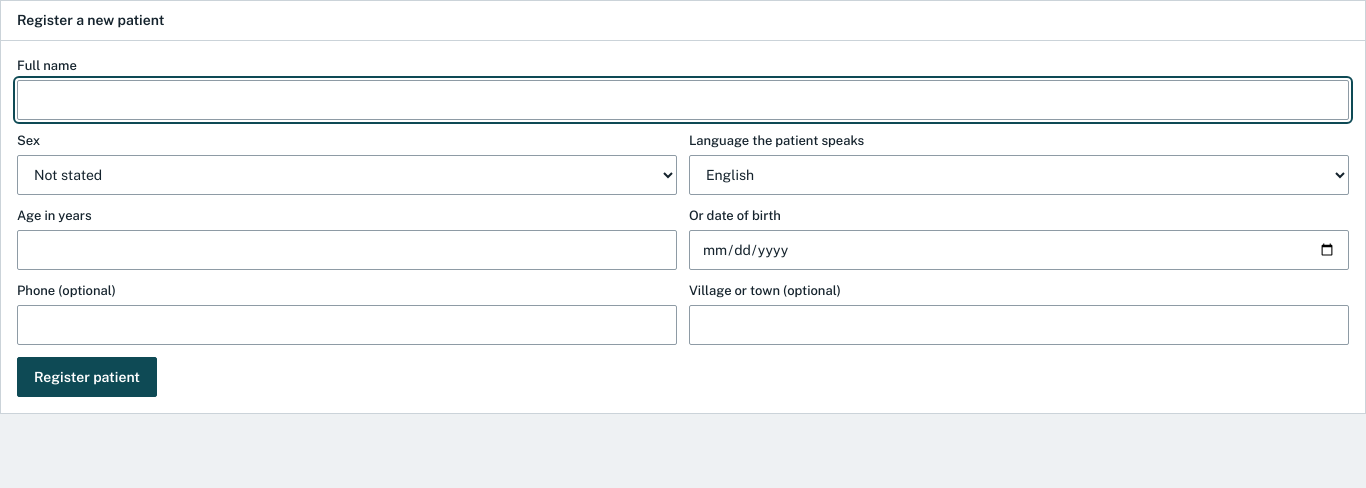
Test: RegisterPatientForm › other server errors are shown in words
Type "Meera Das" into the field labelled "Full name".
click(683, 100); type("Meera Das")  # box 17,80 -> 1349,120
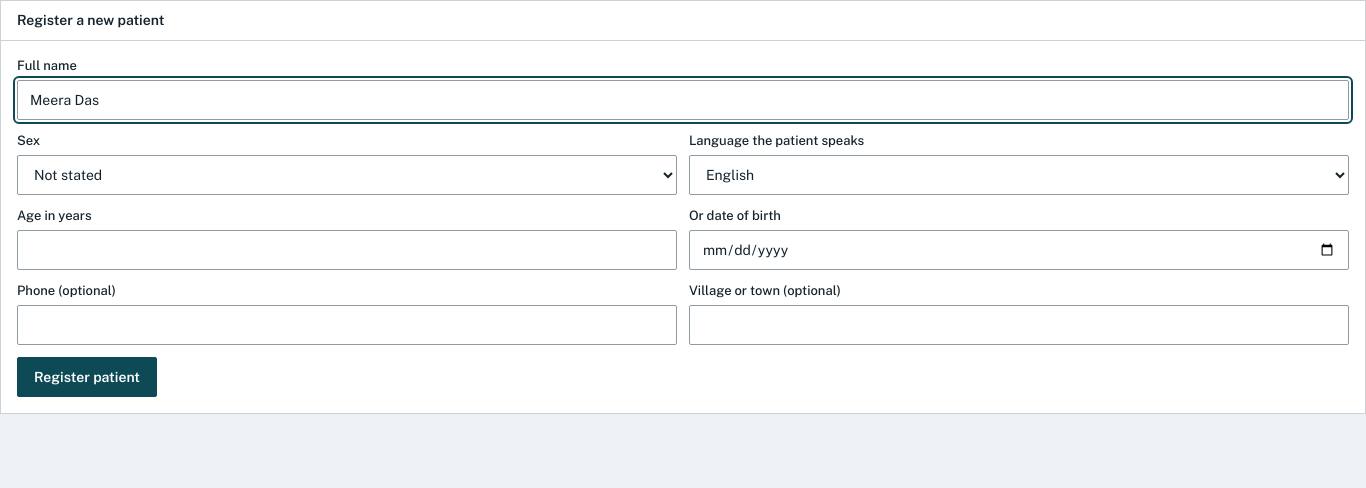
Type "28" into the field labelled "Age in years".
click(347, 250); type("28")  # box 17,230 -> 677,270
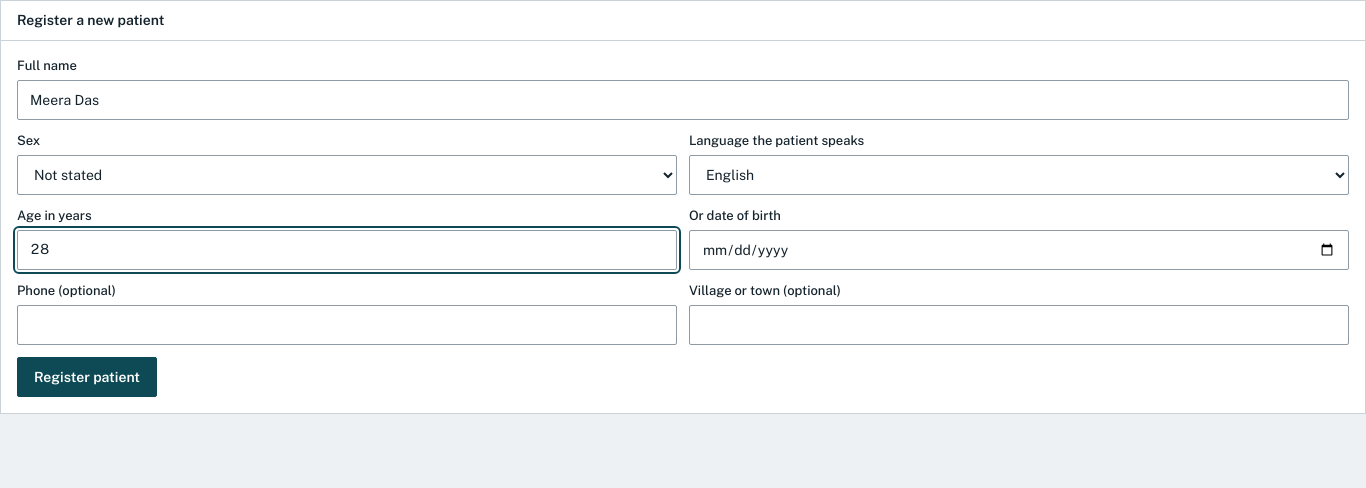
Click the button "Register patient".
click(87, 377)  # box 17,357 -> 157,397
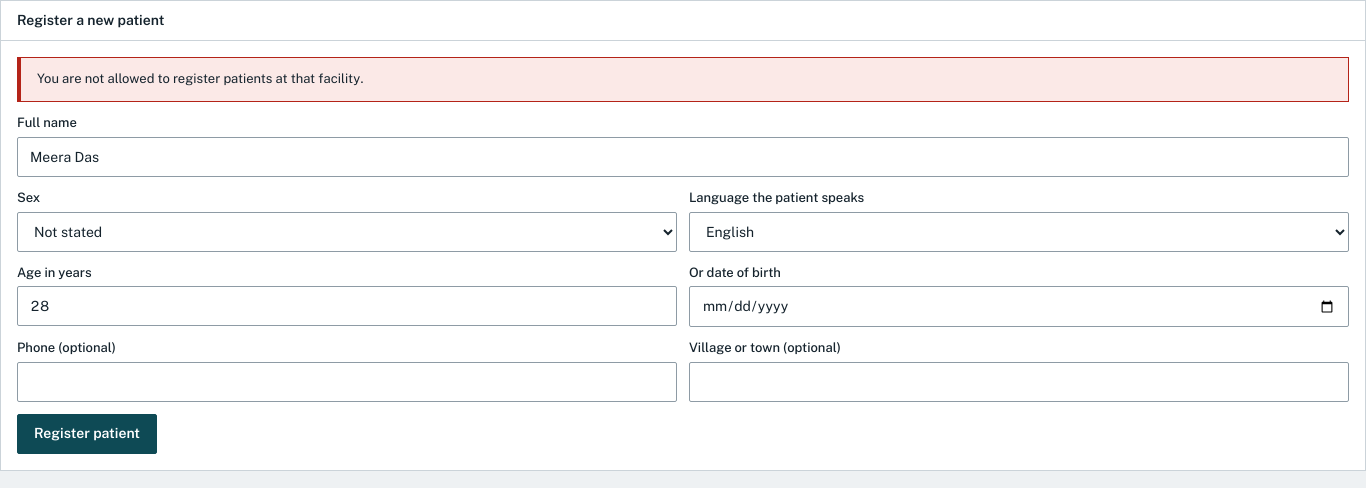
Now the message shows "not allowed", box 37,71 -> 364,86
